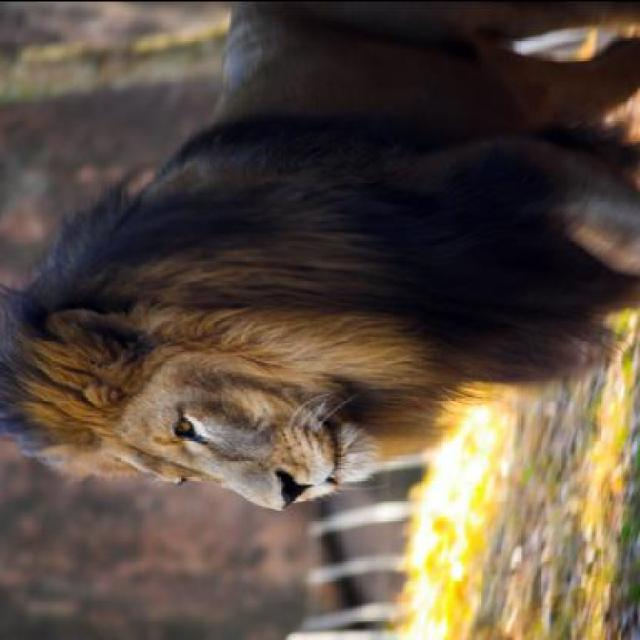Lion: (6, 0, 639, 529)
